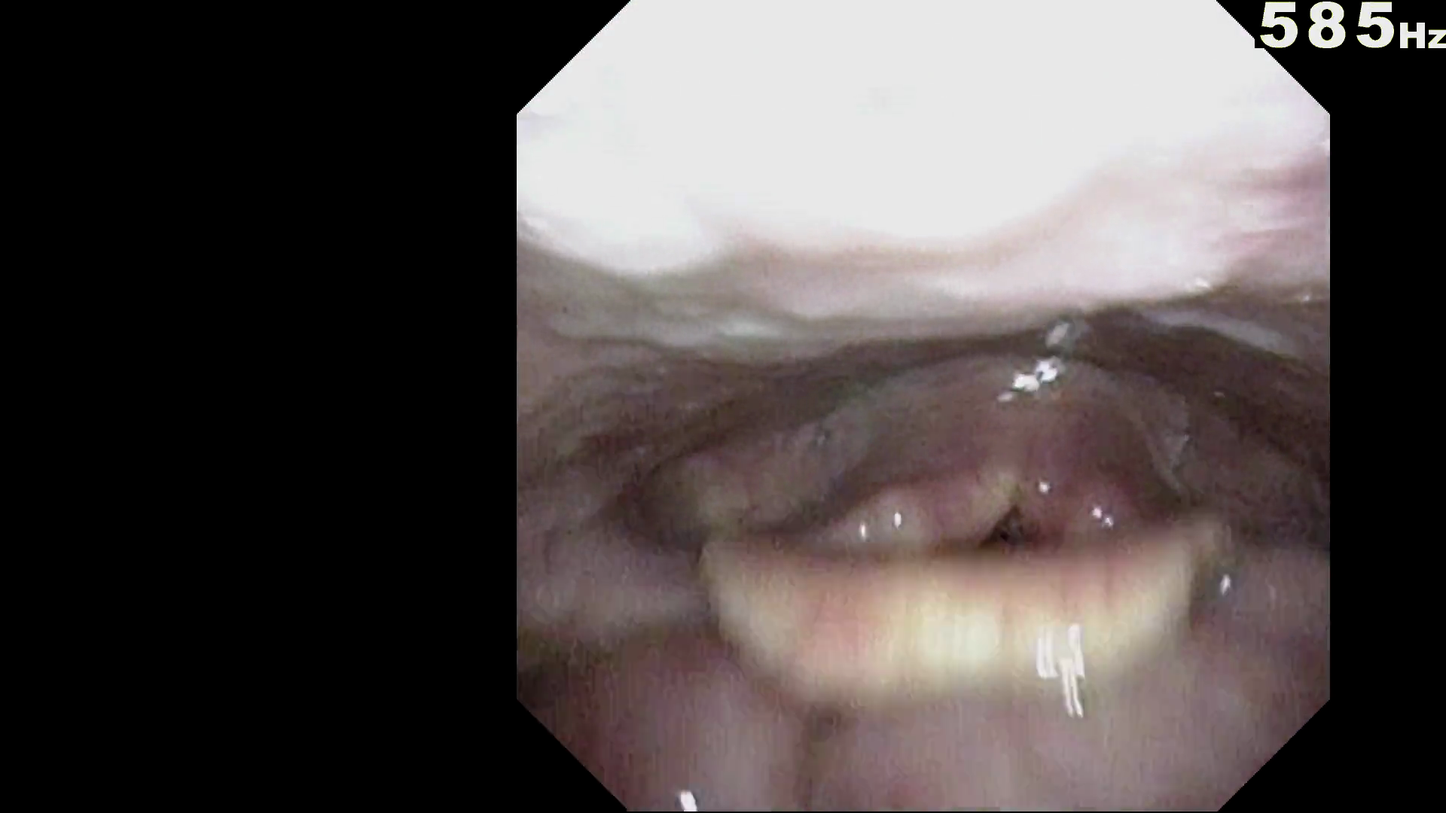epiglottis: (684, 594, 1226, 734)
trachea: (926, 533, 1054, 627)
